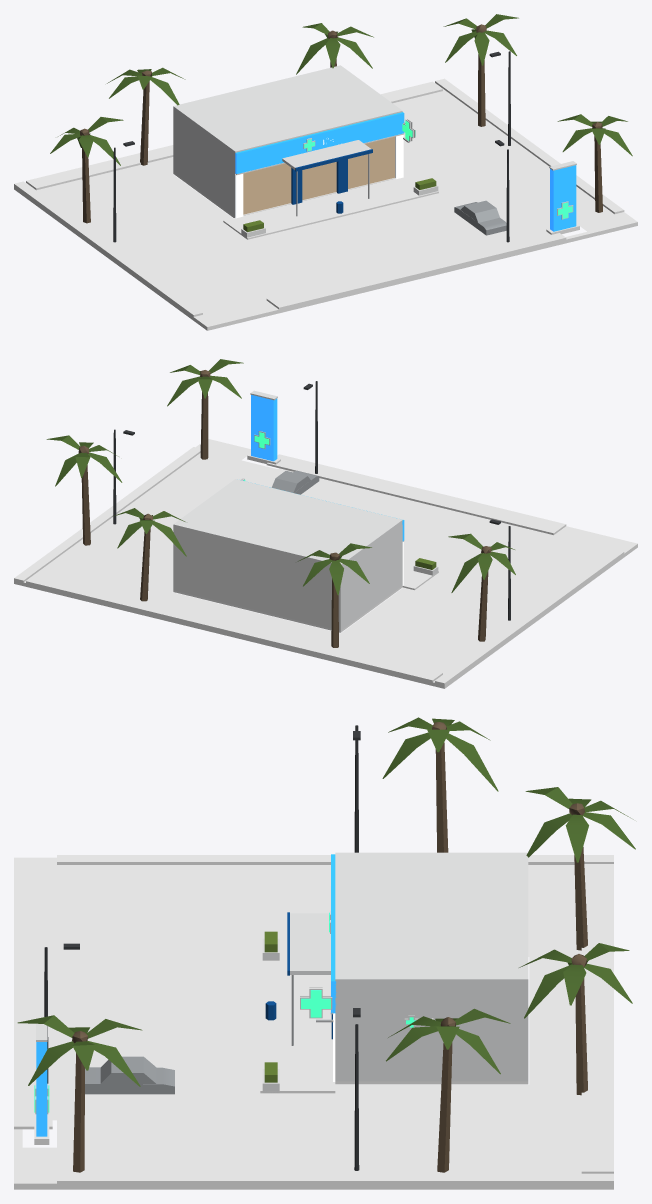
File: life_pharmacy_lod2.glb
The picture shows the model from 3 angles, top to bottom: view 1: azimuth 30°, elevation 25°; view 2: azimuth 150°, elevation 25°; view 3: azimuth 270°, elevation 25°; orthographic projection. The views are drawn at different scales.
Visible parts, largest first — view 1: LIFE_LOD2_Ground, LIFE_LOD2_Building, LIFE_LOD2_Landscape, LIFE_LOD2_Glass, LIFE_LOD2_Totem, LIFE_LOD2_Vehicles, LIFE_LOD2_LampPosts, LIFE_LOD2_Furniture, LIFE_LOD2_Signage; view 2: LIFE_LOD2_Ground, LIFE_LOD2_Building, LIFE_LOD2_Landscape, LIFE_LOD2_Totem, LIFE_LOD2_LampPosts, LIFE_LOD2_Vehicles; view 3: LIFE_LOD2_Ground, LIFE_LOD2_Building, LIFE_LOD2_Landscape, LIFE_LOD2_Vehicles, LIFE_LOD2_LampPosts, LIFE_LOD2_Totem, LIFE_LOD2_Furniture, LIFE_LOD2_Signage.
Part boxes in pixels (x1,y1,x2,y2): LIFE_LOD2_Ground: (14,78,637,330); LIFE_LOD2_Building: (173,65,409,218); LIFE_LOD2_Landscape: (50,14,632,223); LIFE_LOD2_Glass: (243,136,394,214); LIFE_LOD2_Totem: (546,161,579,234); LIFE_LOD2_Vehicles: (454,200,506,235); LIFE_LOD2_LampPosts: (113,51,510,242); LIFE_LOD2_Furniture: (241,178,438,237); LIFE_LOD2_Signage: (303,119,573,219); LIFE_LOD2_Ground: (14,439,637,688); LIFE_LOD2_Building: (173,479,404,632); LIFE_LOD2_Landscape: (46,359,515,647); LIFE_LOD2_Totem: (247,390,280,464); LIFE_LOD2_LampPosts: (113,381,510,620); LIFE_LOD2_Vehicles: (271,470,319,494); LIFE_LOD2_Ground: (14,855,613,1189); LIFE_LOD2_Building: (287,852,528,1084); LIFE_LOD2_Landscape: (17,717,635,1172); LIFE_LOD2_Vehicles: (85,1056,174,1094); LIFE_LOD2_LampPosts: (44,725,360,1170); LIFE_LOD2_Totem: (34,1023,49,1144); LIFE_LOD2_Furniture: (262,931,279,1093); LIFE_LOD2_Signage: (34,911,433,1114).
Size of what is drawn, in the model's own units: 39.22 by 8.48 by 29.12.
